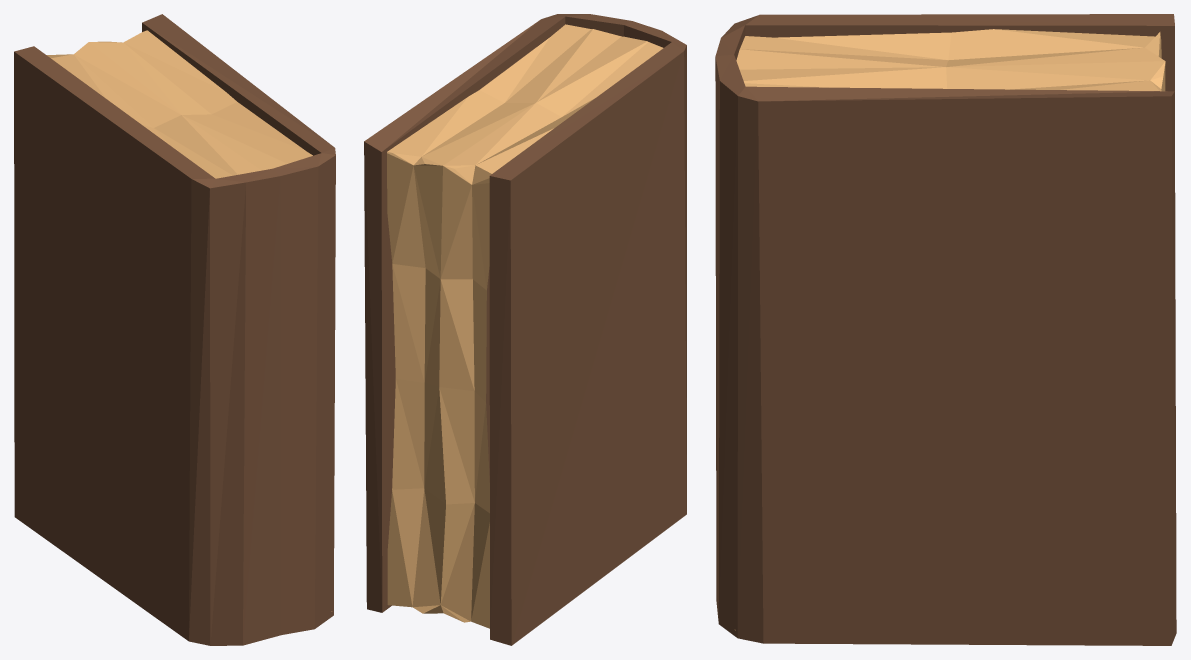
File: Book_007.fbx
3 renders of one model, left to right at view 1: azimuth 30°, elevation 25°; view 2: azimuth 150°, elevation 25°; view 3: azimuth 270°, elevation 25°, orthographic. The views are drawn at different scales.
Parts seen in each view (by area): view 1: Book_007; view 2: Book_007; view 3: Book_007.
Part boxes in pixels (left/top/right/bottom): Book_007: left=14, top=14, right=335, bottom=645; Book_007: left=364, top=14, right=686, bottom=645; Book_007: left=715, top=14, right=1176, bottom=645.
Bounding box in the file's own units: 0.1047 × 0.3164 × 0.2392.
